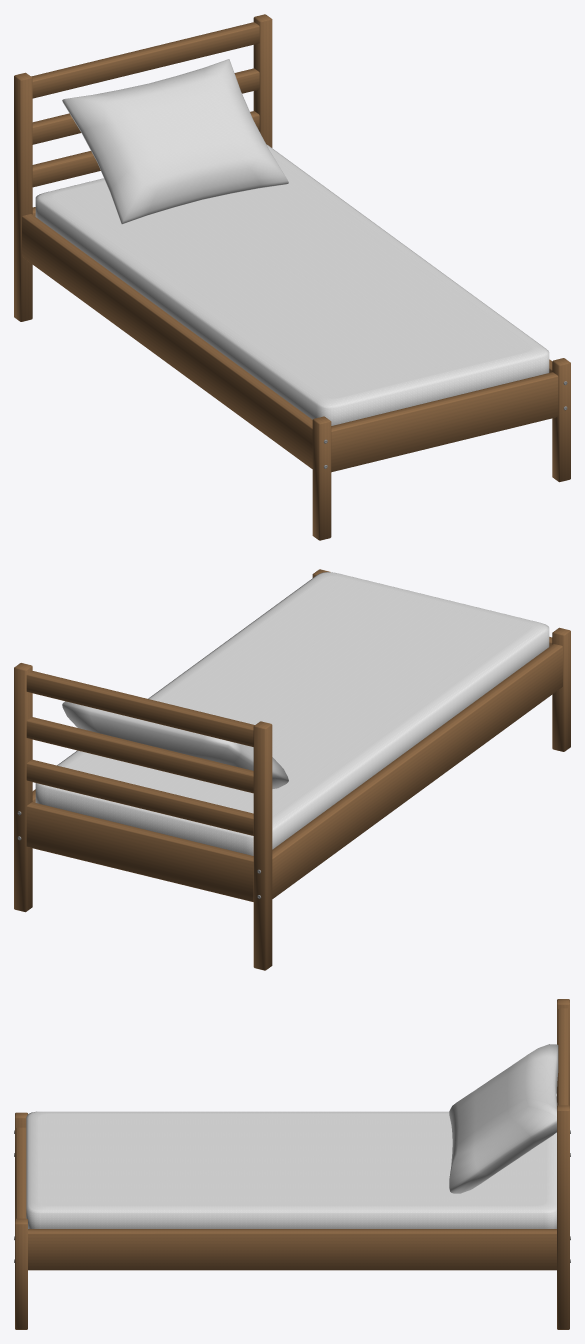
The model's file is bed.glb.
3 views of the same model, one above another, from view 1: azimuth 30°, elevation 25°; view 2: azimuth 150°, elevation 25°; view 3: azimuth 270°, elevation 25° (orthographic). The views are drawn at different scales.
Visible parts, largest first — view 1: Bed Mattress, Bed Frame, Bed Pillow; view 2: Bed Mattress, Bed Frame, Bed Pillow; view 3: Bed Mattress, Bed Frame, Bed Pillow.
Part boxes in pixels (left/top/right/bottom): Bed Mattress: left=35, top=144, right=549, bottom=425; Bed Frame: left=14, top=14, right=570, bottom=540; Bed Pillow: left=62, top=59, right=288, bottom=224; Bed Mattress: left=35, top=572, right=549, bottom=855; Bed Frame: left=14, top=569, right=570, bottom=970; Bed Pillow: left=62, top=701, right=288, bottom=788; Bed Mattress: left=26, top=1111, right=556, bottom=1228; Bed Frame: left=14, top=999, right=570, bottom=1329; Bed Pillow: left=449, top=1044, right=558, bottom=1193.
Size of the model in its own units: 1 by 0.9185 by 2.11.
Materials: 3 (3 with a texture image).
